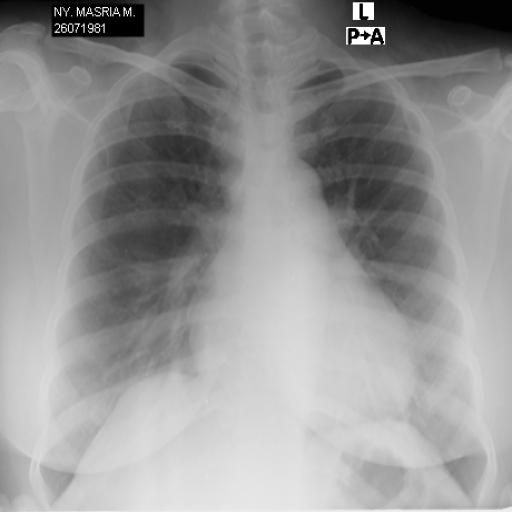kardiomegali: (34, 20, 496, 494)
